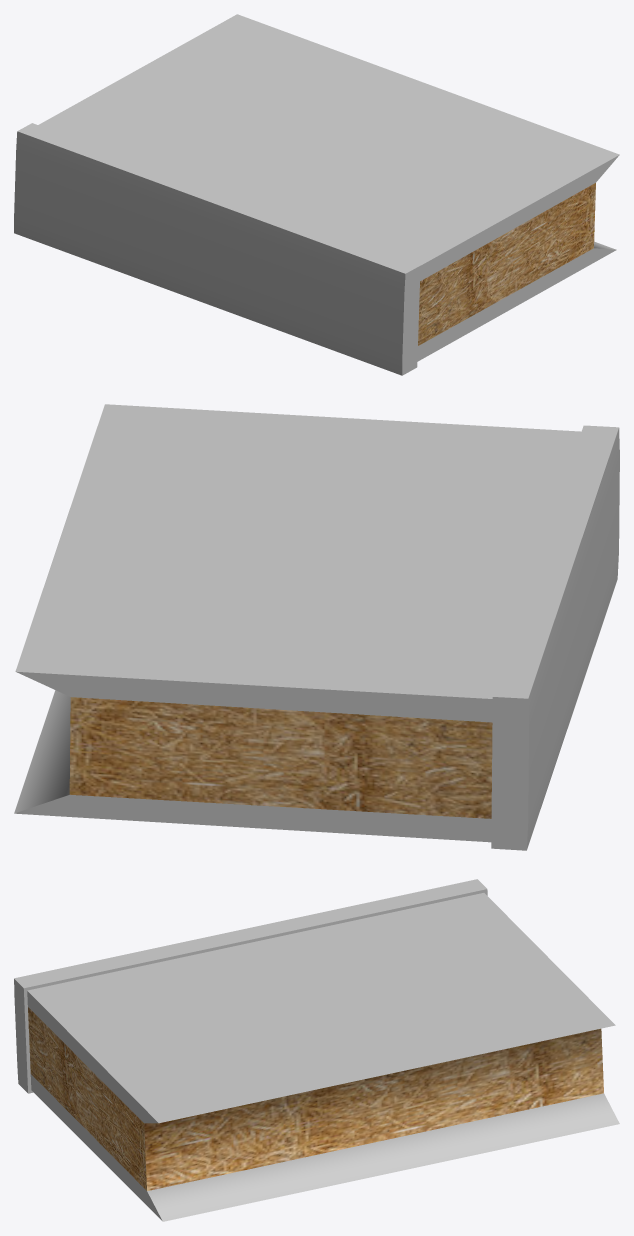
File: Book.fbx
3 views of the same model, one above another, from view 1: azimuth 30°, elevation 25°; view 2: azimuth 150°, elevation 25°; view 3: azimuth 270°, elevation 25° (orthographic). The views are drawn at different scales.
Visible parts, largest first — view 1: pCube19; view 2: pCube19; view 3: pCube19.
Boxes of the visible parts, box(x1,y1,x2,y2) form: pCube19: box(14, 14, 619, 375); pCube19: box(14, 404, 619, 850); pCube19: box(14, 879, 619, 1221).
Size of the model in its own units: 13.4 by 3.43 by 15.23.
